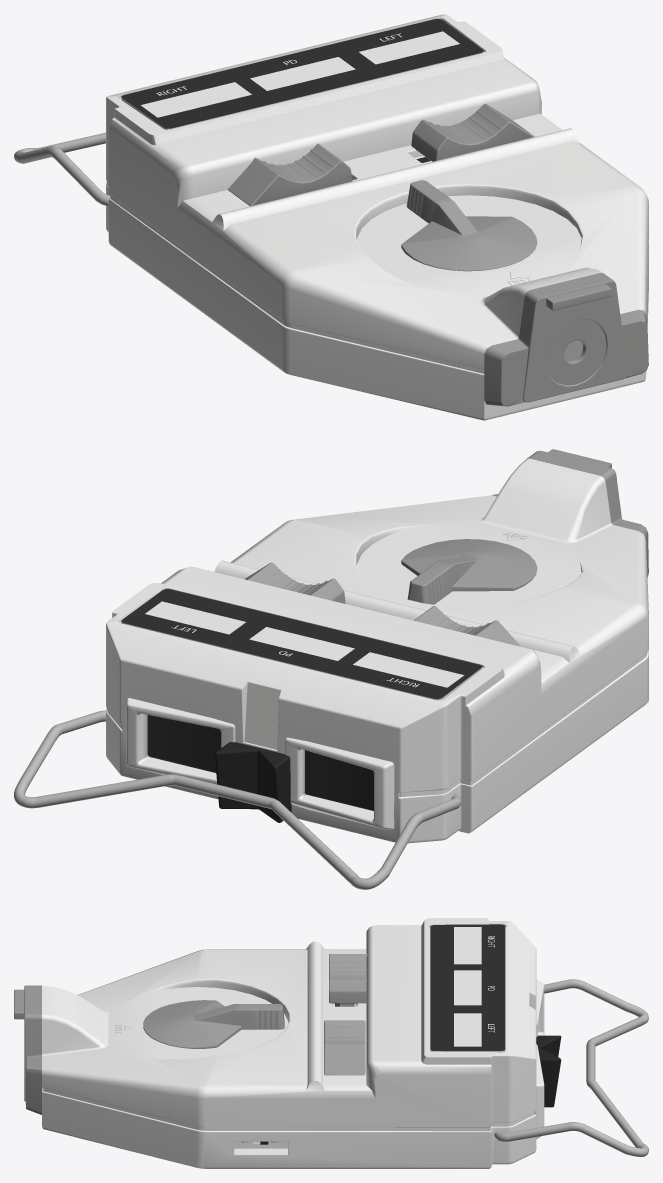
The model's file is TongJuJianCeYi.fbx.
The picture shows the model from 3 angles, top to bottom: view 1: azimuth 30°, elevation 25°; view 2: azimuth 150°, elevation 25°; view 3: azimuth 270°, elevation 25°; orthographic projection. The views are drawn at different scales.
Visible parts, largest first — view 1: TongJu_JiShen_Mesh, XuanZhuan_Mesh, keYi1_Mesh, keYi2_Mesh, tiShou_Mesh, Plane_TongJu_RIGHT, Plane_TongJu_PD, Plane_TongJu_LEFT; view 2: TongJu_JiShen_Mesh, tiShou_Mesh, XuanZhuan_Mesh, Plane_TongJu_RIGHT, Plane_TongJu_PD, keYi2_Mesh, Plane_TongJu_LEFT, keYi1_Mesh; view 3: TongJu_JiShen_Mesh, XuanZhuan_Mesh, tiShou_Mesh, keYi2_Mesh, keYi1_Mesh, Plane_TongJu_RIGHT, Plane_TongJu_PD, Plane_TongJu_LEFT.
Boxes of the visible parts, bbox=[...] form: TongJu_JiShen_Mesh: bbox=[106, 14, 648, 420]; XuanZhuan_Mesh: bbox=[401, 180, 537, 271]; keYi1_Mesh: bbox=[227, 143, 352, 206]; keYi2_Mesh: bbox=[411, 103, 534, 161]; tiShou_Mesh: bbox=[14, 132, 110, 206]; Plane_TongJu_RIGHT: bbox=[141, 82, 251, 117]; Plane_TongJu_PD: bbox=[250, 57, 355, 90]; Plane_TongJu_LEFT: bbox=[359, 31, 459, 64]; TongJu_JiShen_Mesh: bbox=[106, 449, 648, 843]; tiShou_Mesh: bbox=[14, 710, 461, 889]; XuanZhuan_Mesh: bbox=[401, 539, 537, 604]; Plane_TongJu_RIGHT: bbox=[353, 652, 464, 687]; Plane_TongJu_PD: bbox=[249, 627, 354, 660]; keYi2_Mesh: bbox=[244, 562, 345, 603]; Plane_TongJu_LEFT: bbox=[145, 601, 245, 634]; keYi1_Mesh: bbox=[414, 606, 520, 646]; TongJu_JiShen_Mesh: bbox=[14, 918, 561, 1168]; XuanZhuan_Mesh: bbox=[143, 1000, 284, 1048]; tiShou_Mesh: bbox=[494, 979, 648, 1156]; keYi2_Mesh: bbox=[324, 1020, 365, 1075]; keYi1_Mesh: bbox=[329, 954, 367, 1006]; Plane_TongJu_RIGHT: bbox=[454, 927, 481, 964]; Plane_TongJu_PD: bbox=[454, 970, 481, 1005]; Plane_TongJu_LEFT: bbox=[454, 1013, 481, 1046].
Bounding box in the file's own units: 15.28 × 5.42 × 27.97.
